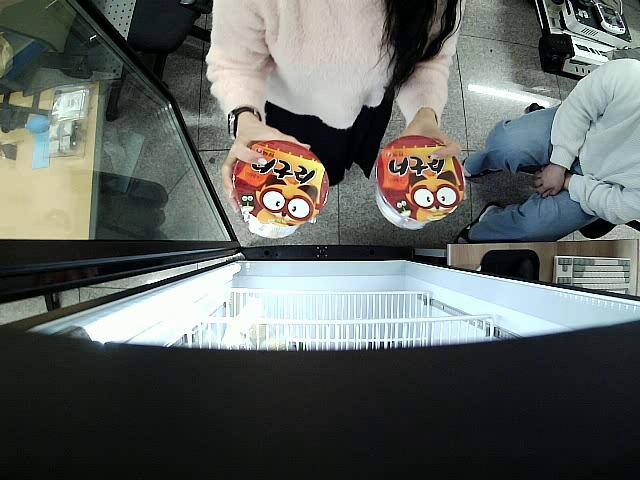00_hand: (221, 119, 309, 212)
05_nuguri_L: (229, 140, 329, 238), (375, 135, 466, 229)
